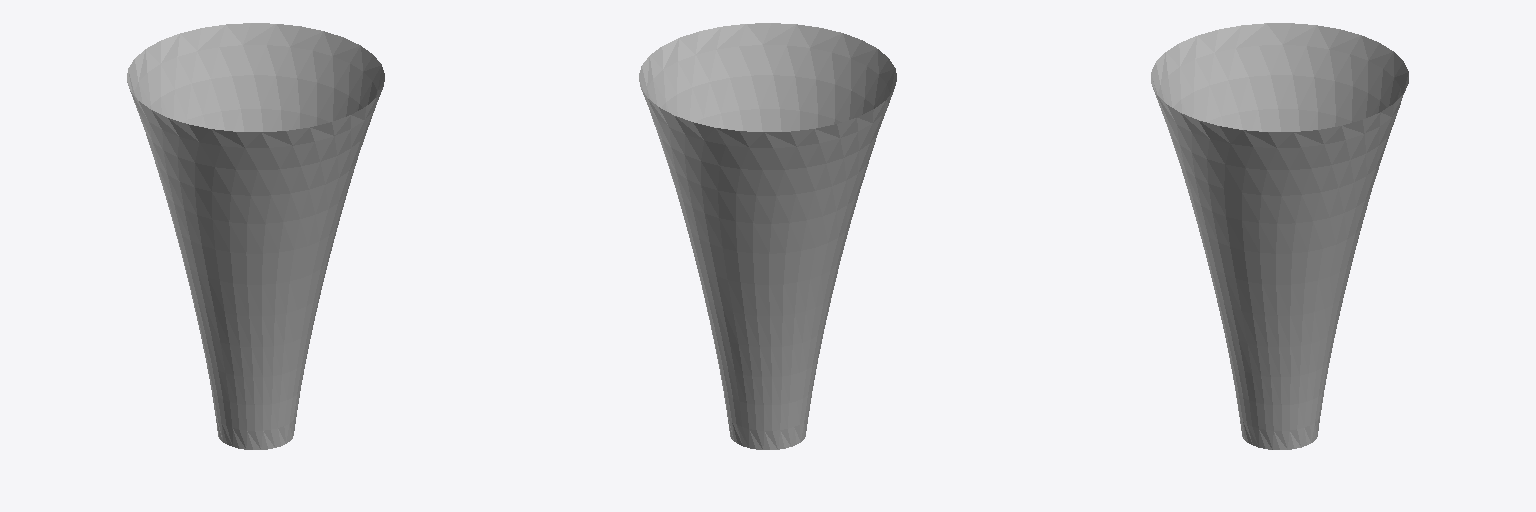
Rendered from VFXCurve10.obj.
The picture shows the model from 3 angles: view 1: azimuth 30°, elevation 25°; view 2: azimuth 150°, elevation 25°; view 3: azimuth 270°, elevation 25°; orthographic projection.
Parts seen in each view (by area): view 1: Sphere.004; view 2: Sphere.004; view 3: Sphere.004.
Boxes of the visible parts, <box> form: Sphere.004: <box>127,23,384,449</box>; Sphere.004: <box>639,23,896,449</box>; Sphere.004: <box>1151,23,1408,449</box>.
Bounding box in the file's own units: 1.64 × 2.5 × 1.64.